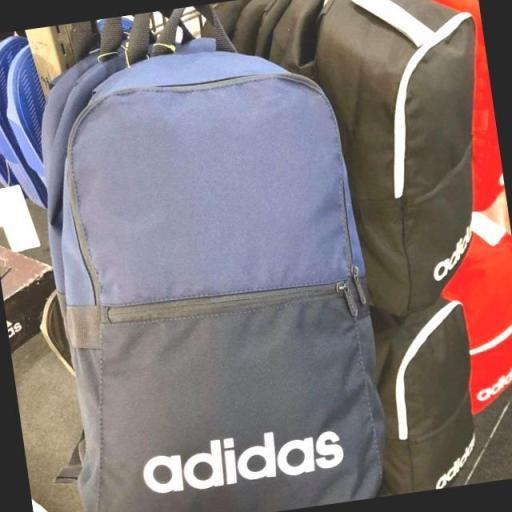bag: (24, 27, 394, 512)
